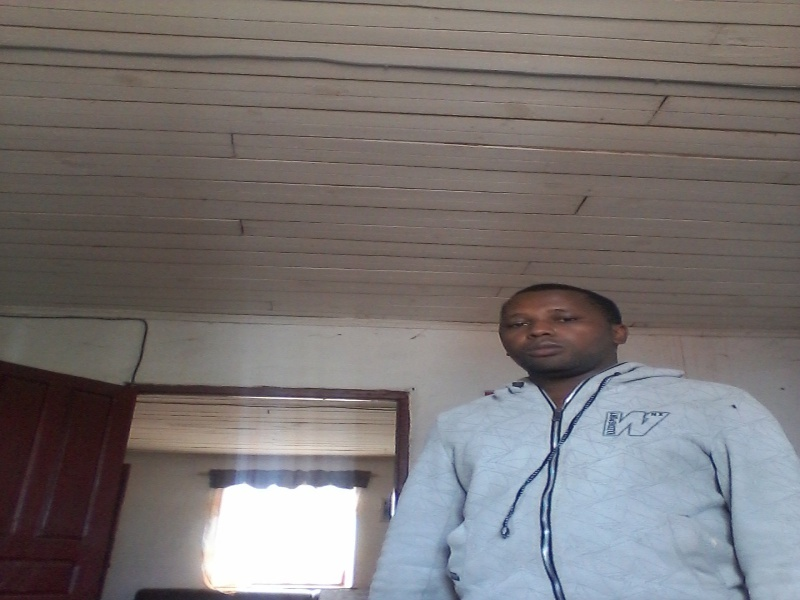TsisyArotava: (493, 275, 641, 404)
